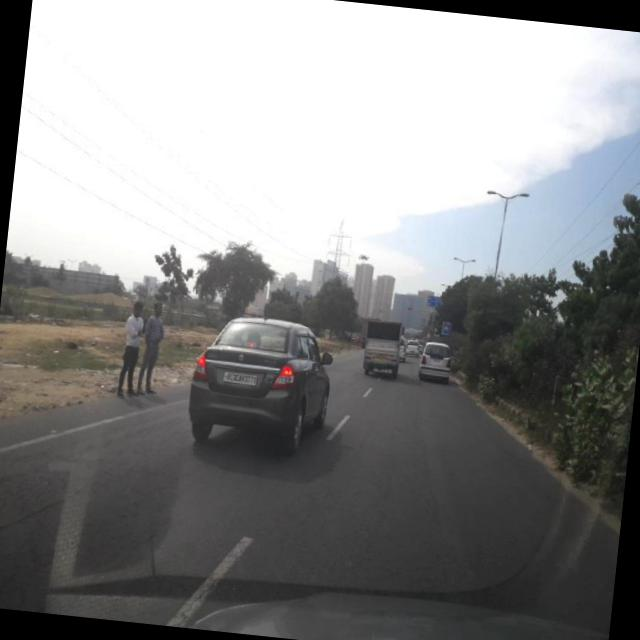crack: (288, 460, 606, 610), (0, 419, 229, 622)
pothole: (0, 465, 93, 553)
